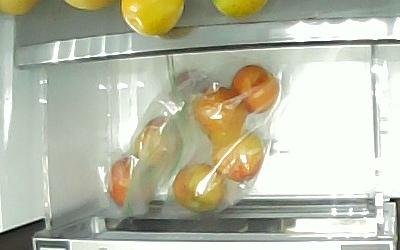prune_vinyl: (191, 85, 247, 137), (171, 160, 227, 212), (211, 128, 264, 181), (133, 114, 183, 170), (231, 63, 280, 114), (108, 155, 154, 206), (175, 70, 215, 97)
